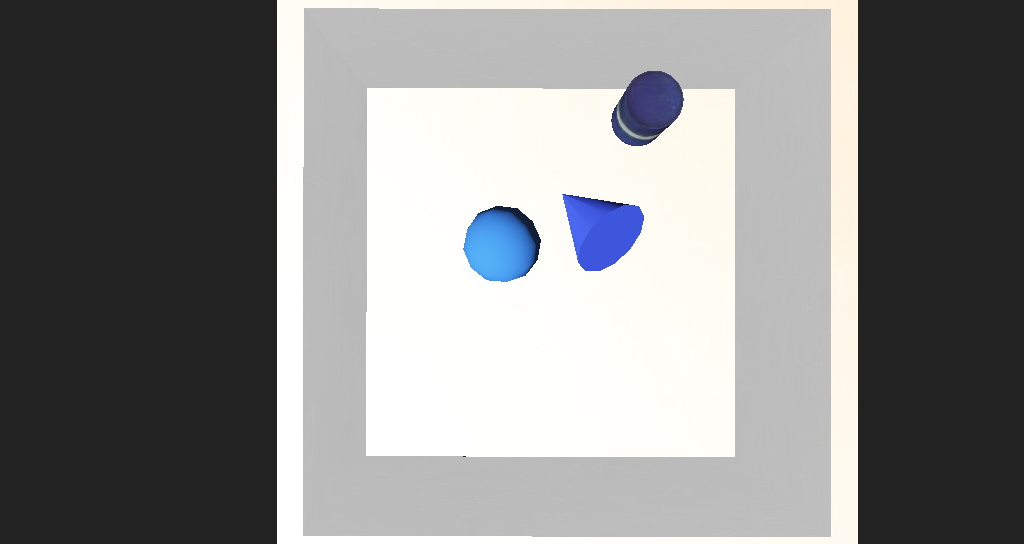cone: (552, 155, 606, 198)
cylinder: (482, 196, 596, 272)
sphere: (431, 231, 499, 274)
